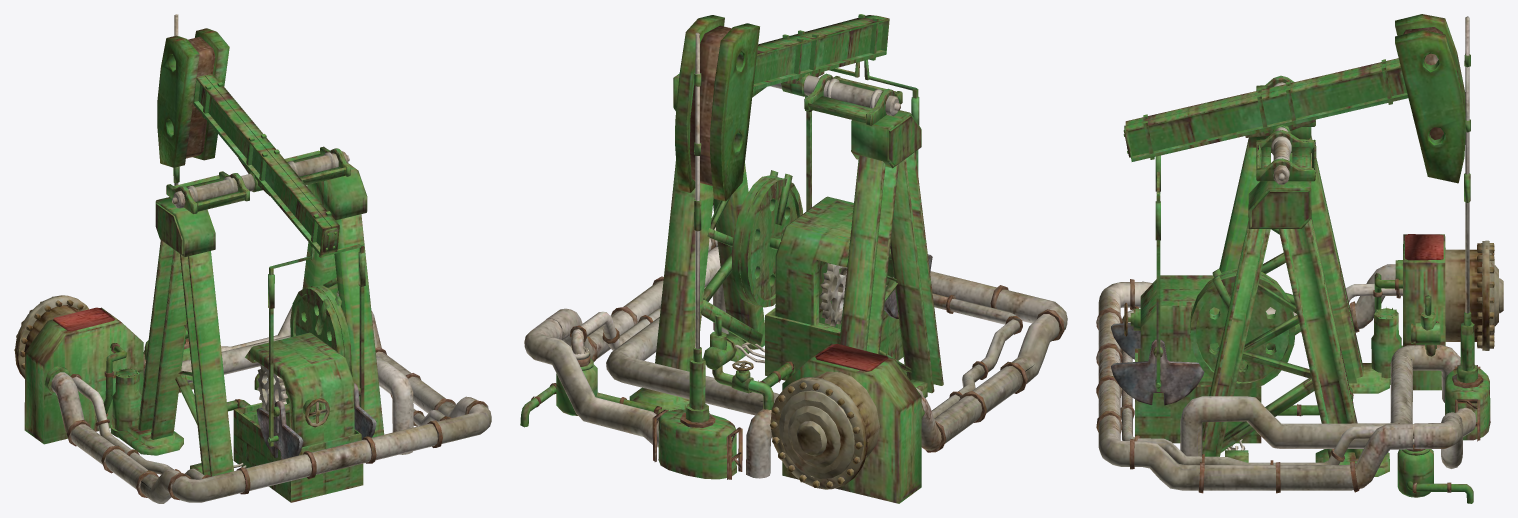
Rendered from pumpjack-east.glb.
The picture shows the model from 3 angles, left to right: view 1: azimuth 30°, elevation 25°; view 2: azimuth 150°, elevation 25°; view 3: azimuth 270°, elevation 25°; orthographic projection. The views are drawn at different scales.
Parts seen in each view (by area): view 1: body; view 2: body; view 3: body.
Part boxes in pixels (<box>): body: <box>14,14,491,503</box>; body: <box>520,14,1067,503</box>; body: <box>1096,14,1503,503</box>.
Size of the model in its own units: 3.15 by 3.45 by 3.14.
Materials: 1 (1 with a texture image).
